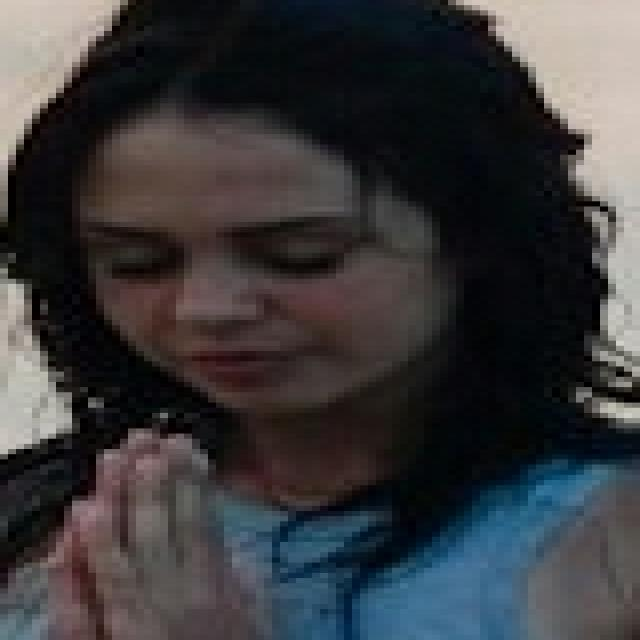front: (105, 180, 394, 390)
